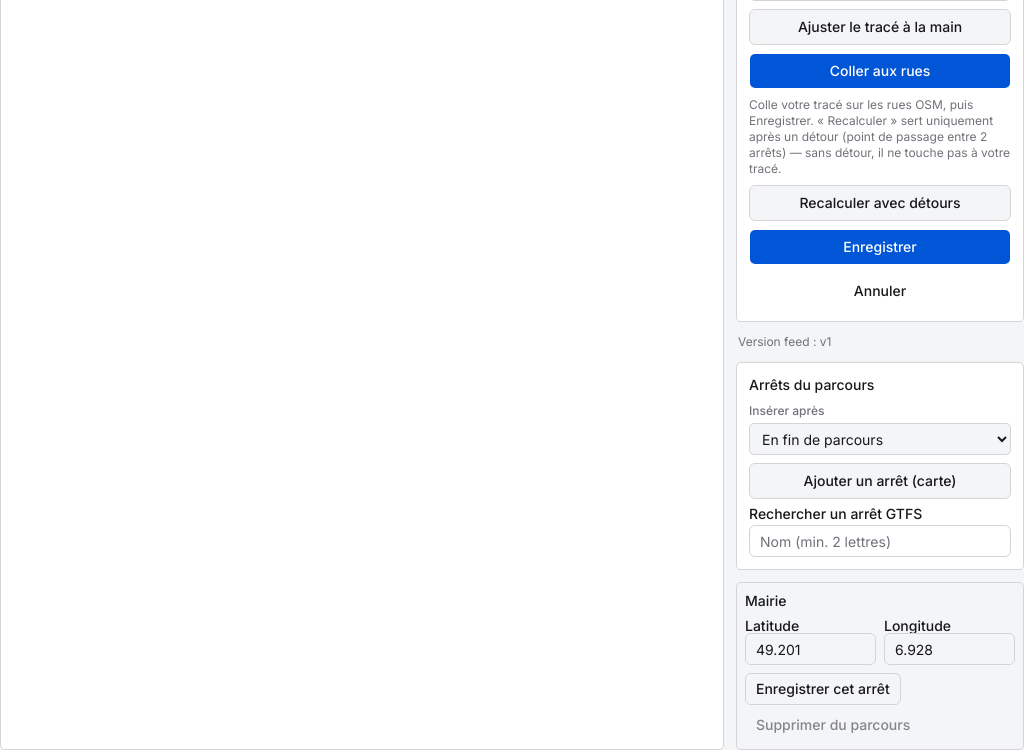
Test: MapEditor — brouillon local › Annuler restaure les coordonnées du serveur après un déplacement local
This screenshot has width=1024, height=750.
(page scrolled)
Replace the text in the number field labelled "Latitude" with "49.5" at (810, 649), box [745, 633, 876, 665]
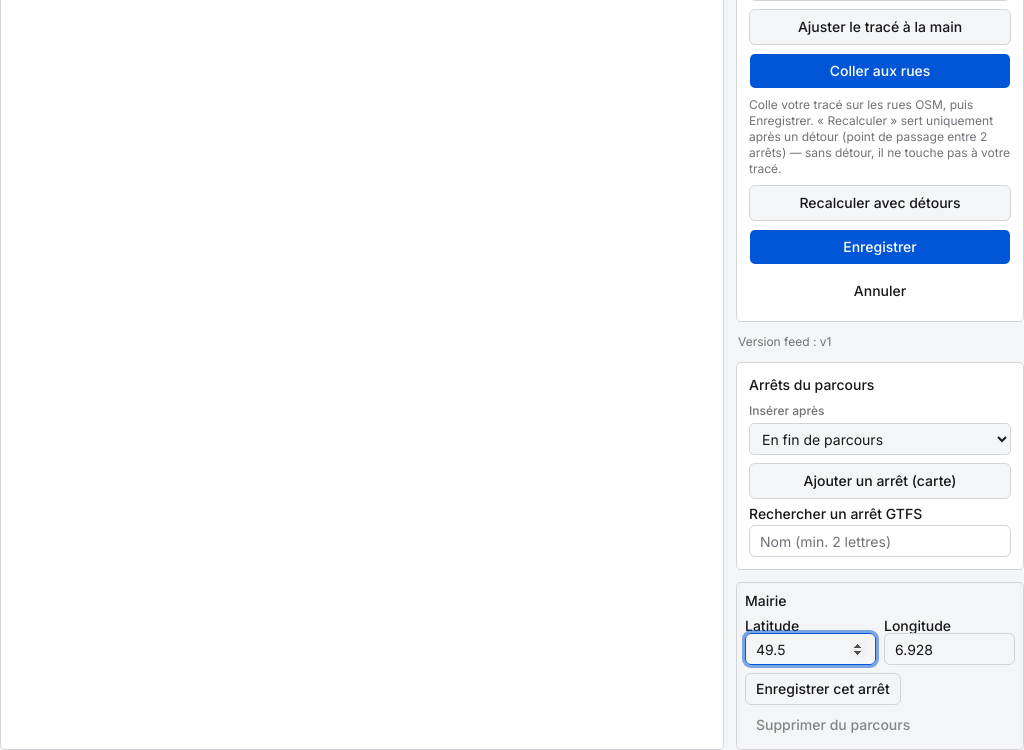
Click the button "Annuler" at (880, 291), box [749, 273, 1011, 309]
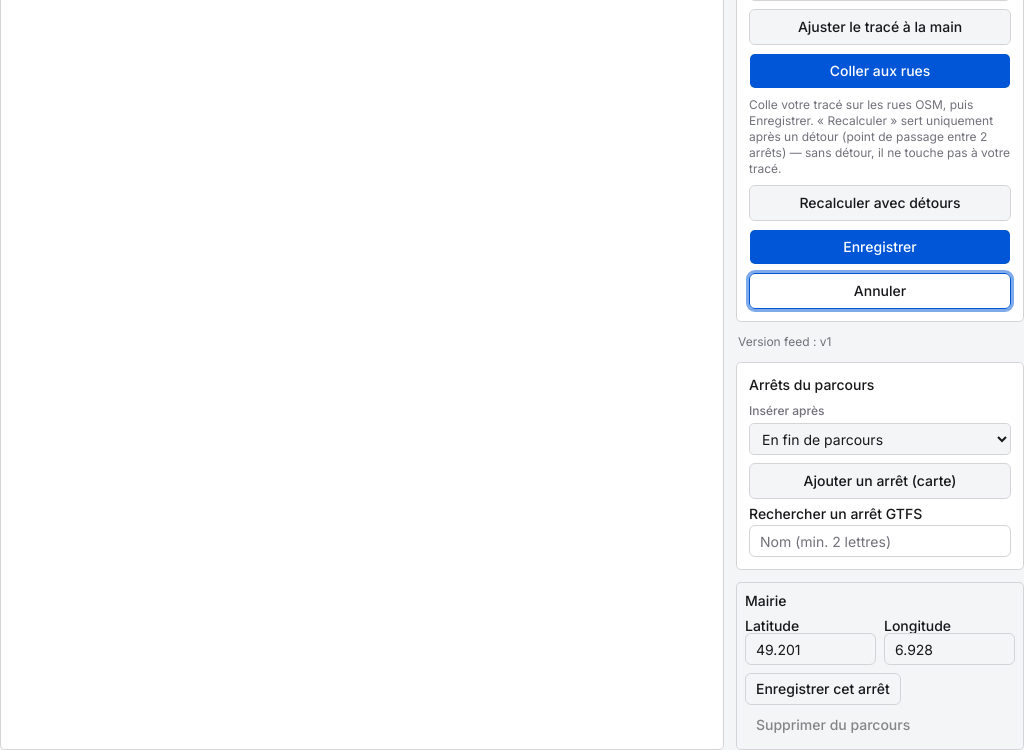
Now the number field labelled "Latitude" holds "49.201", box [745, 633, 876, 665]
